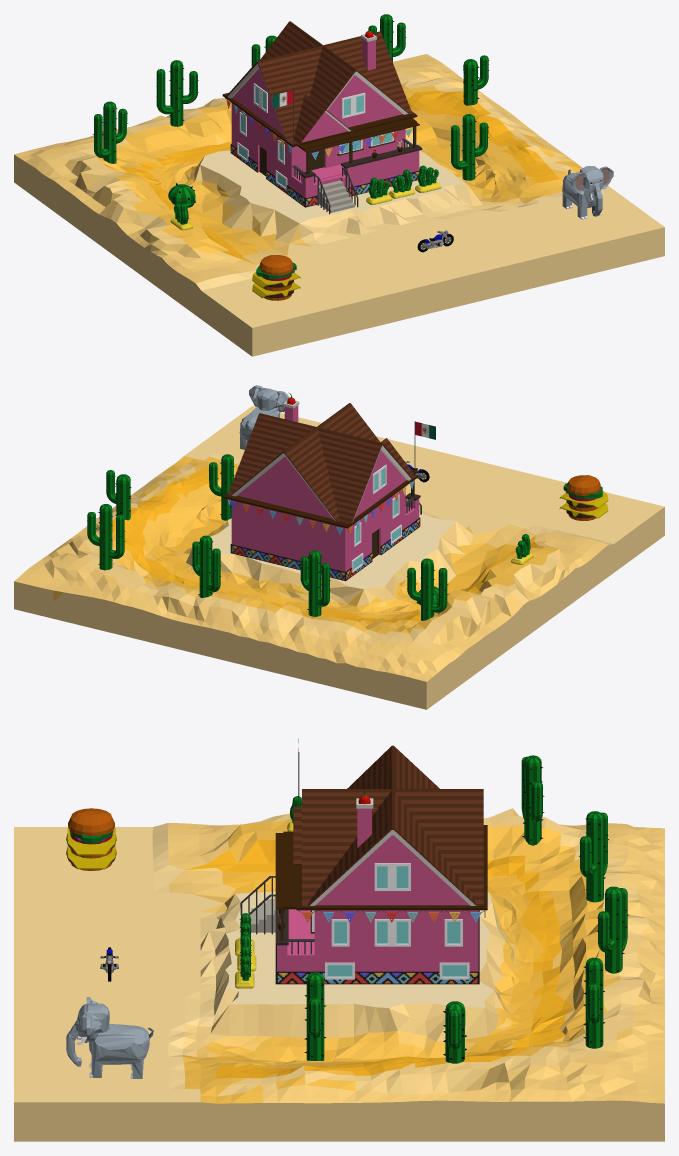
3 views of the same model, one above another, from view 1: azimuth 30°, elevation 25°; view 2: azimuth 150°, elevation 25°; view 3: azimuth 270°, elevation 25° (orthographic). The views are drawn at different scales.
Parts seen in each view (by area): view 1: Cube.001, Cube.1005, ANIMAL_ELEFANTE, OBJRANDOM_HAMBURGER, Cylinder.044, Cylinder.037, Cylinder.045, Cylinder.038, Cylinder.042, Cylinder.039, Cylinder.041, Sphere.023; view 2: Cube.001, Cube.1005, OBJRANDOM_HAMBURGER, Cylinder.042, Cylinder.045, Cylinder.044, Cylinder.043, ANIMAL_ELEFANTE, Cylinder.037, Cylinder.038; view 3: Cube.001, Cube.1005, ANIMAL_ELEFANTE, OBJRANDOM_HAMBURGER, Cylinder.043, Cylinder.044, Cylinder.045, Cylinder.042, Cylinder.037, Cylinder.038, Cylinder.041.
Boxes of the visible parts, x1,y1,x2,y2 form: Cube.001: (14,54,664,356); Cube.1005: (222,21,422,214); ANIMAL_ELEFANTE: (562,166,613,219); OBJRANDOM_HAMBURGER: (252,255,300,300); Cylinder.044: (156,60,198,126); Cylinder.037: (450,114,488,180); Cylinder.045: (93,101,127,163); Cylinder.038: (463,55,489,105); Cylinder.042: (368,14,406,62); Cylinder.039: (366,177,392,204); Cylinder.041: (415,165,441,192); Sphere.023: (168,183,195,207); Cube.001: (14,406,664,709); Cube.1005: (223,392,435,581); OBJRANDOM_HAMBURGER: (559,475,608,520); Cylinder.042: (87,504,125,570); Cylinder.045: (406,558,448,620); Cylinder.044: (300,550,330,616); Cylinder.043: (191,535,220,597); ANIMAL_ELEFANTE: (239,385,289,449); Cylinder.037: (209,454,238,520); Cylinder.038: (106,470,131,520); Cube.001: (14,808,664,1141); Cube.1005: (240,738,487,984); ANIMAL_ELEFANTE: (66,997,153,1078); OBJRANDOM_HAMBURGER: (66,808,116,870); Cylinder.043: (596,886,628,973); Cylinder.044: (579,811,608,902); Cylinder.045: (521,755,544,845); Cylinder.042: (583,957,605,1048); Cylinder.037: (304,972,326,1060); Cylinder.038: (443,1001,466,1063); Cylinder.041: (235,946,254,988).
Bounding box in the file's own units: 4002 × 1712 × 4001.
68 materials, 4 textured.
